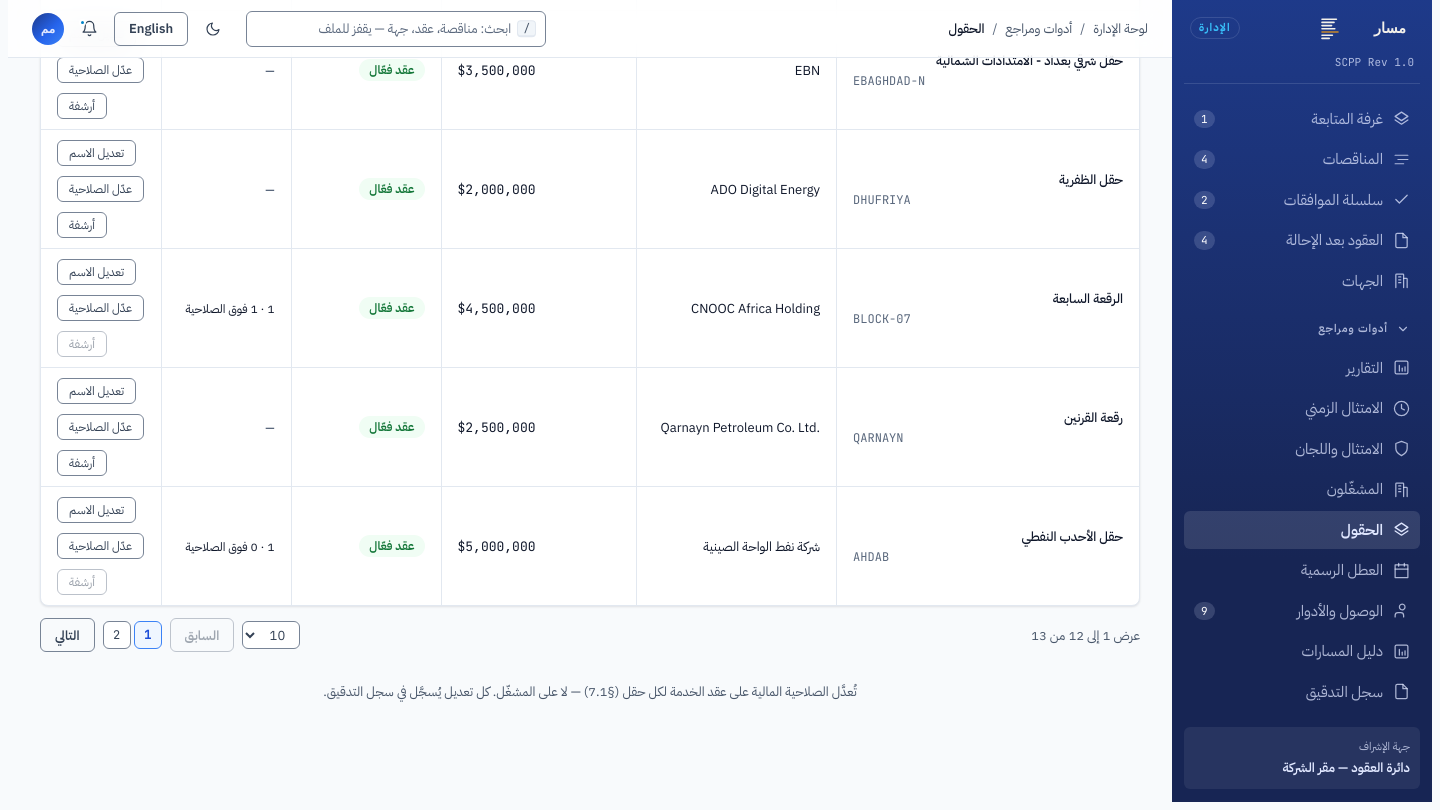
#/admin/fields — the archive gate names its reason instead of greying out › archives through the dialog and the row leaves the default «العاملة» view
(page scrolled)
Click the 4th button "أرشفة": [82, 463] box [57,450,107,476]
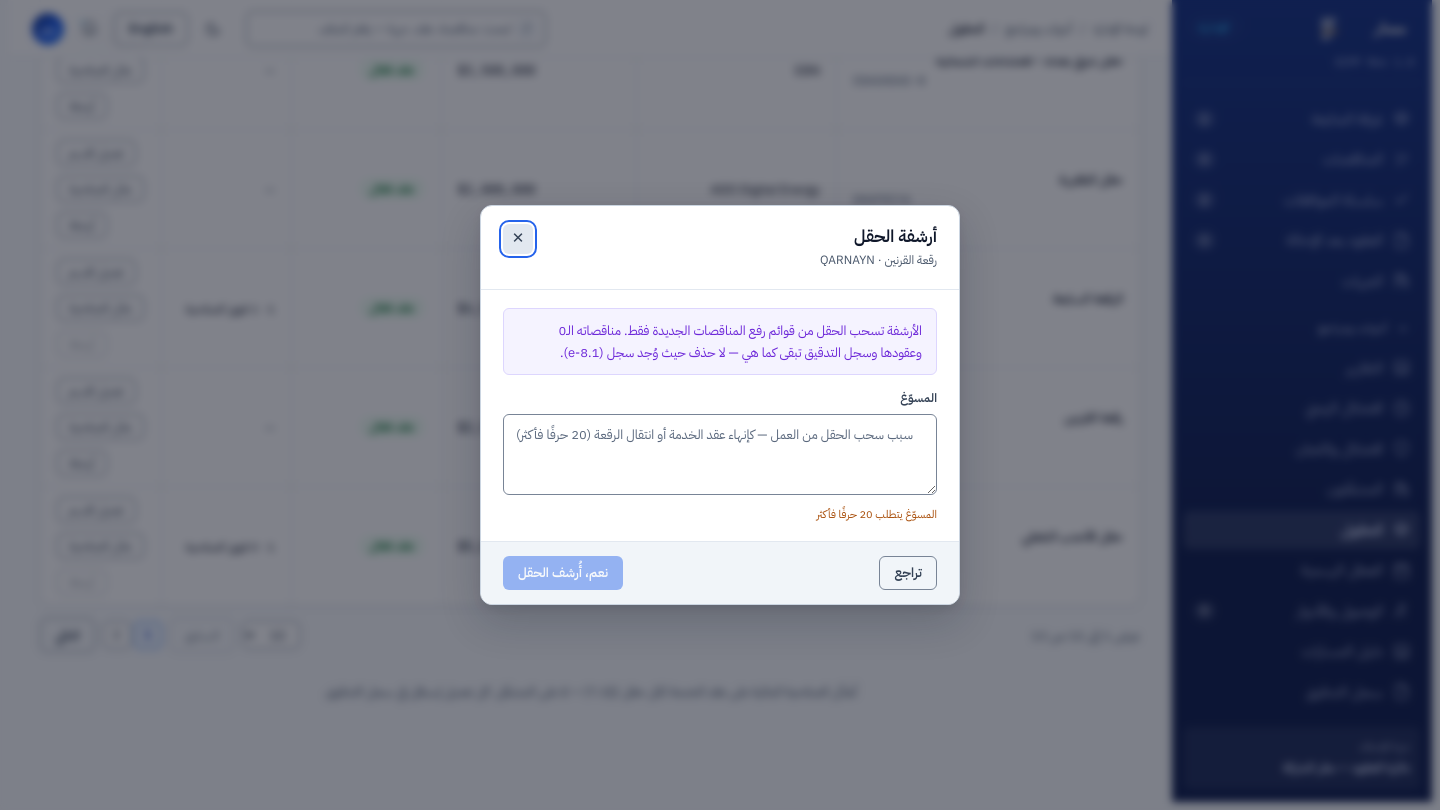
Replace the text in the text box with "انتهى عقد خدمة الحقل ولم تعد الشركة تشغّله — سحب موثّق بكتاب 2026/311": [720, 454] box [503,414,937,495]
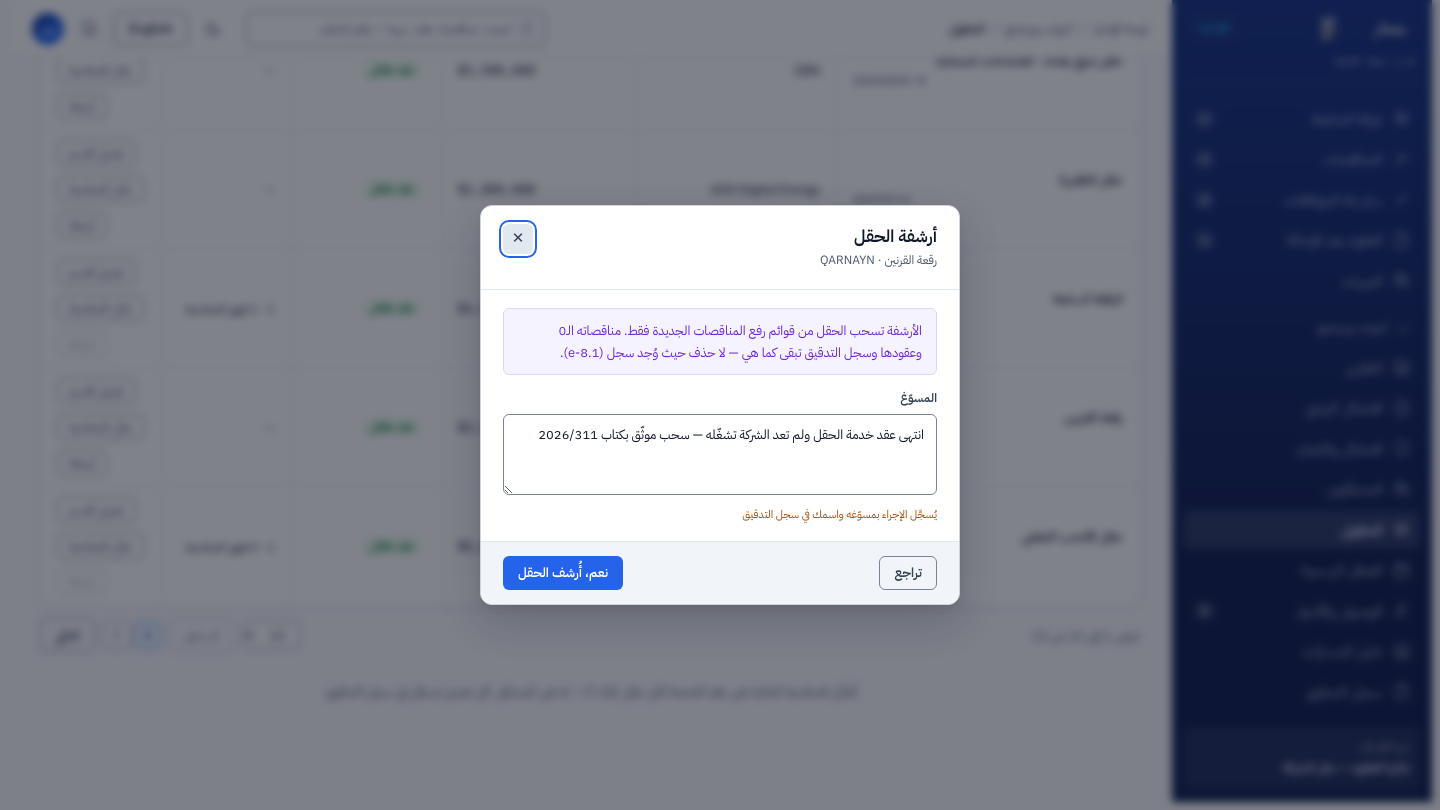
Click the button "نعم، أُرشف الحقل": [563, 573] box [503,556,623,590]
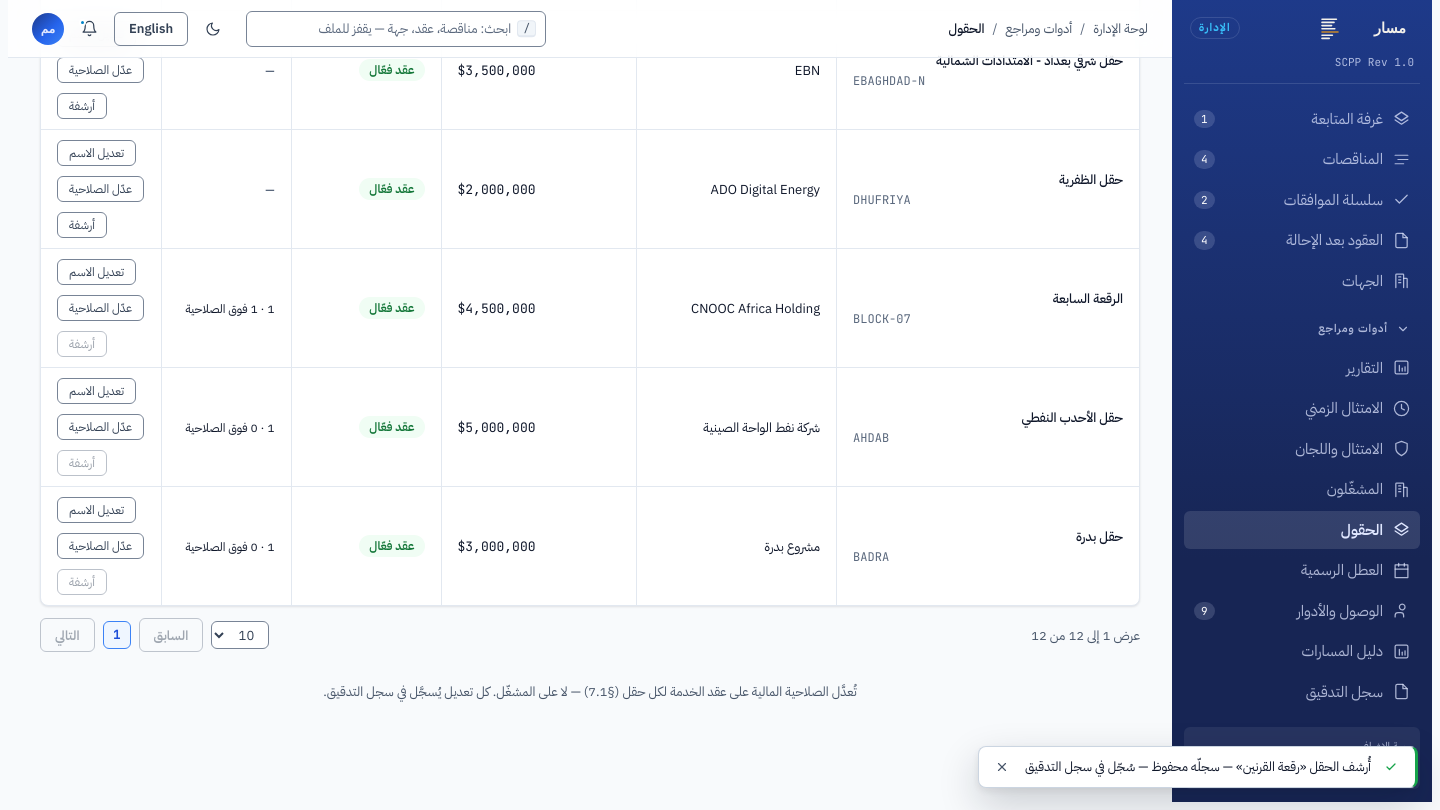
Expected: the text "AHDAB" is shown, [853,430,889,446]
Result: the text "QARNAYN" is gone
